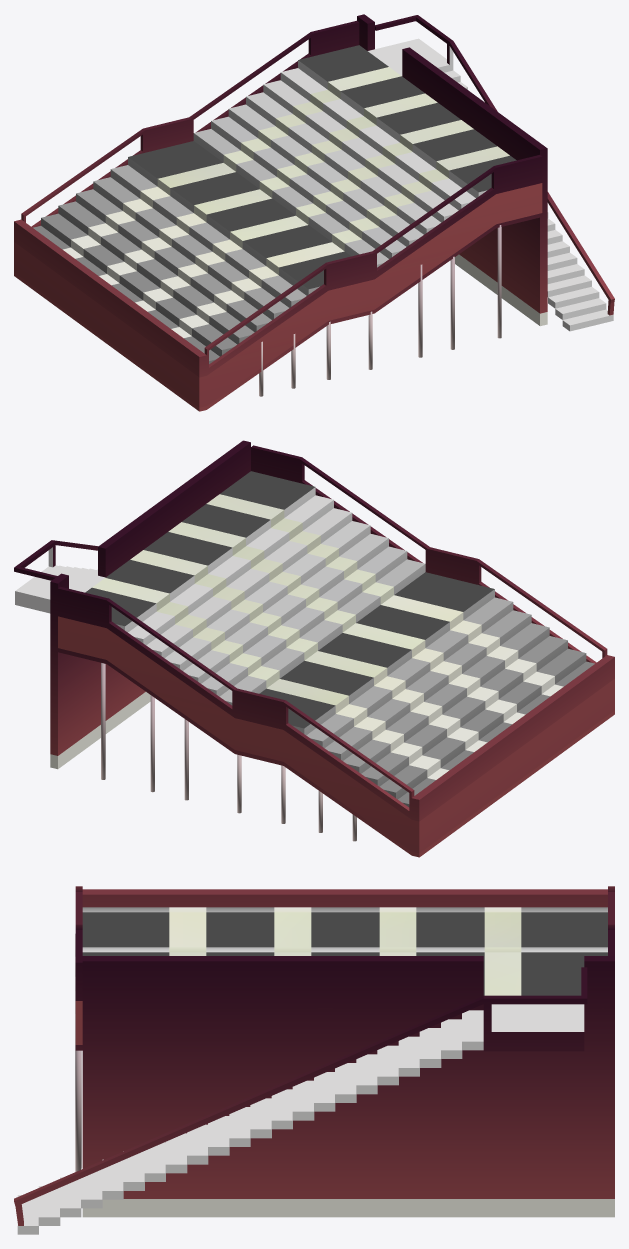
Rendered from platform3.fbx.
The picture shows the model from 3 angles, top to bottom: view 1: azimuth 30°, elevation 25°; view 2: azimuth 150°, elevation 25°; view 3: azimuth 270°, elevation 25°; orthographic projection. The views are drawn at different scales.
Visible parts, largest first — view 1: Cube.004; view 2: Cube.004; view 3: Cube.004.
Boxes of the visible parts, <box> form: Cube.004: <box>14,14,614,411</box>; Cube.004: <box>14,440,614,857</box>; Cube.004: <box>14,886,614,1234</box>.
Size of the model in its own units: 1511 by 645 by 1372.
